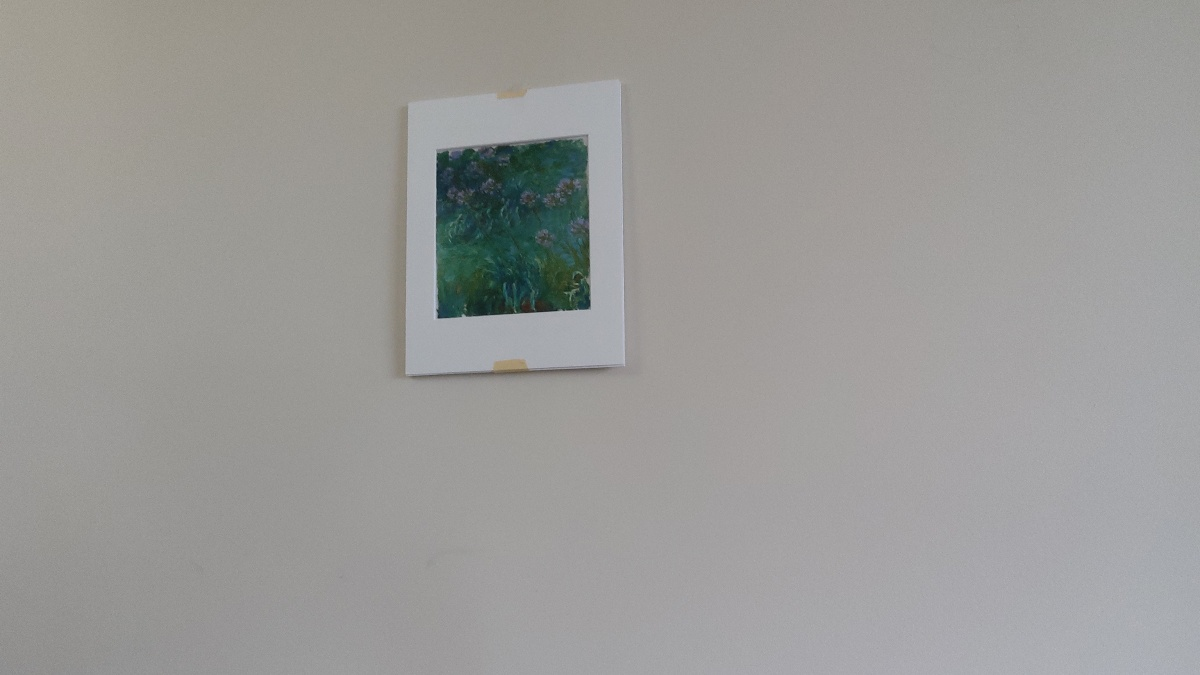painting: (427, 134, 606, 330)
